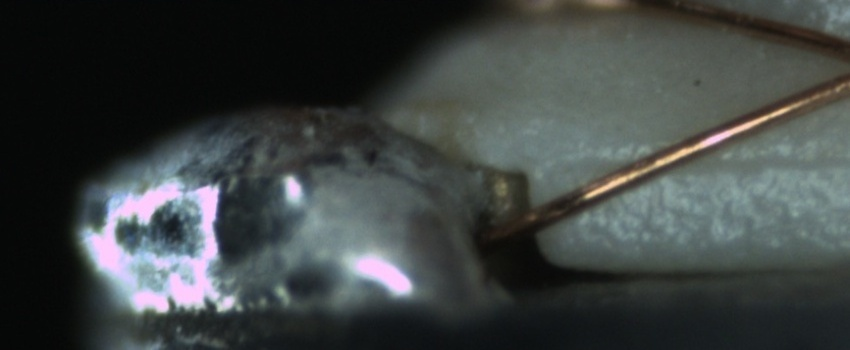DL: (603, 123, 845, 194)
